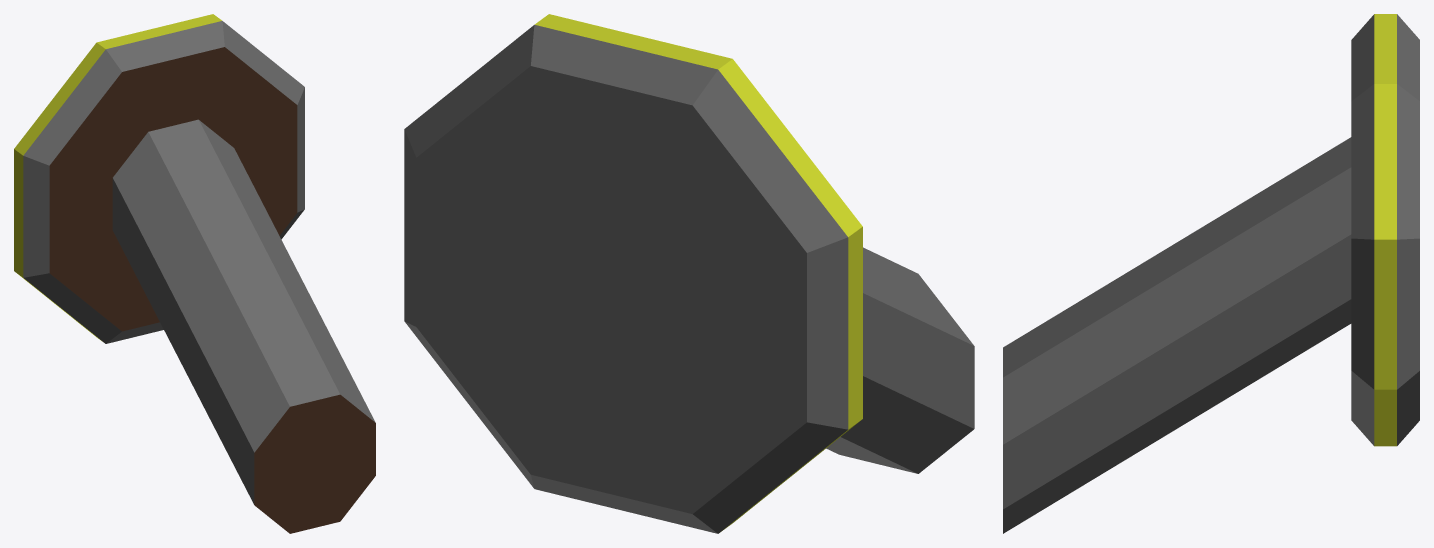
The model's file is tower1.fbx.
3 renders of one model, left to right at view 1: azimuth 30°, elevation 25°; view 2: azimuth 150°, elevation 25°; view 3: azimuth 270°, elevation 25°, orthographic. The views are drawn at different scales.
Visible parts, largest first — view 1: Cube; view 2: Cube; view 3: Cube.
Boxes of the visible parts, x1=… form: Cube: x1=14, y1=14, x2=375, y2=533; Cube: x1=404, y1=14, x2=974, y2=533; Cube: x1=1003, y1=14, x2=1419, y2=533.
Size of the model in its own units: 1.72 by 2.23 by 1.8.
